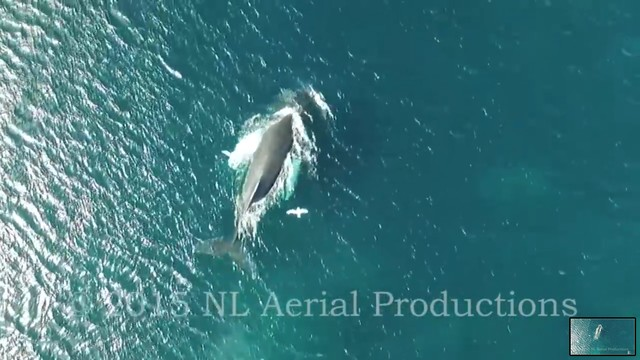whale: (191, 83, 325, 283)
